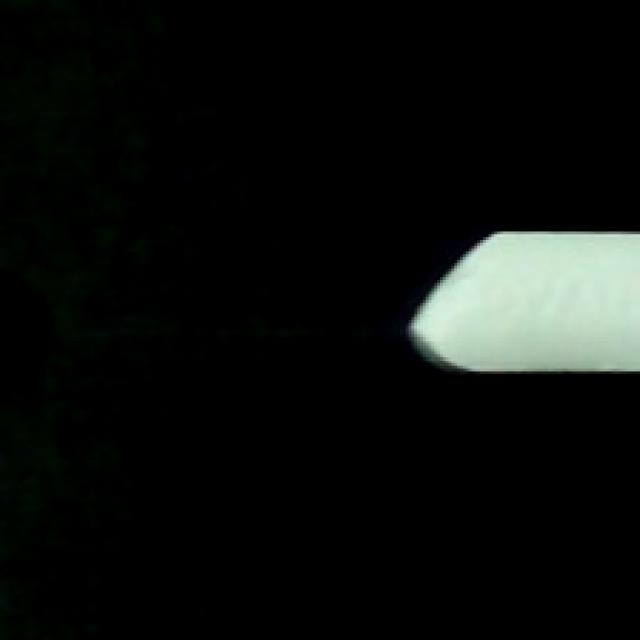defected: (403, 231, 640, 380)
